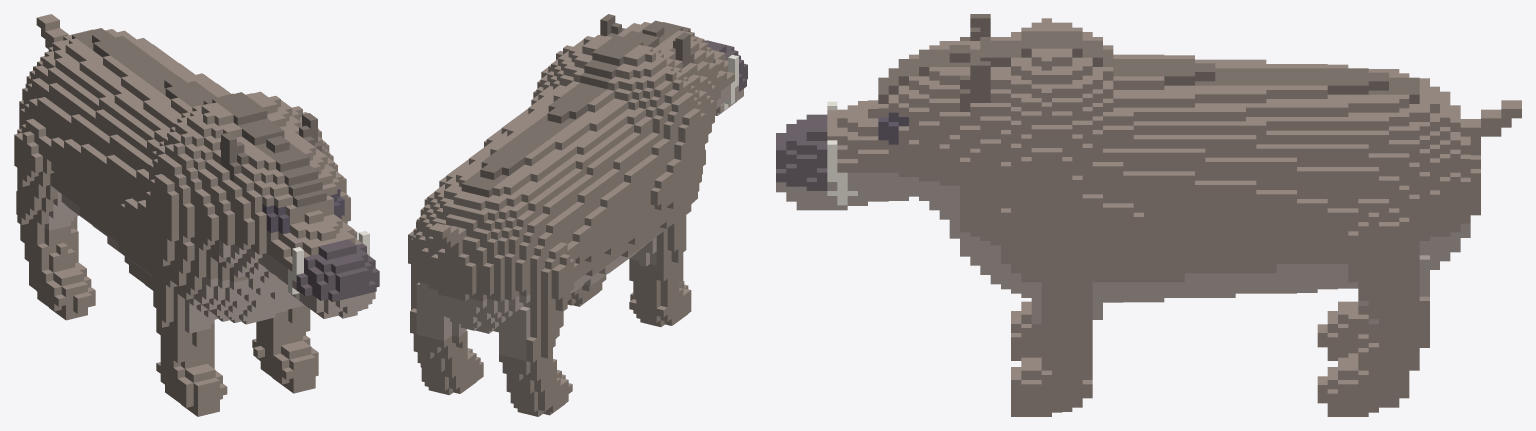
The model's file is boar.glb.
3 renders of one model, left to right at view 1: azimuth 30°, elevation 25°; view 2: azimuth 150°, elevation 25°; view 3: azimuth 270°, elevation 25°, orthographic. The views are drawn at different scales.
Parts seen in each view (by area): view 1: item; view 2: item; view 3: item.
Boxes of the visible parts, left/top/right/bottom form: item: left=14, top=14, right=379, bottom=416; item: left=408, top=14, right=747, bottom=416; item: left=776, top=14, right=1521, bottom=416.
Size of the model in its own units: 22 by 37 by 73.
